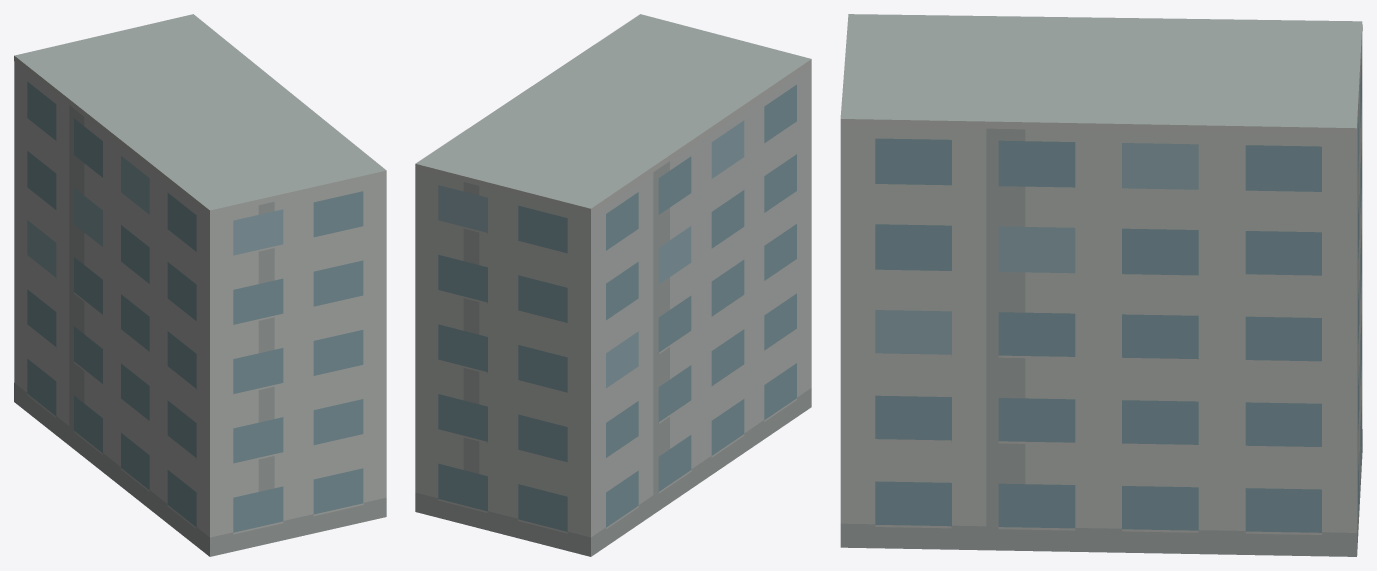
File: survey-upis-33010556.glb
3 renders of one model, left to right at view 1: azimuth 30°, elevation 25°; view 2: azimuth 150°, elevation 25°; view 3: azimuth 270°, elevation 25°, orthographic. The views are drawn at different scales.
Visible parts, largest first — view 1: survey-upis-33010556.tmp; view 2: survey-upis-33010556.tmp; view 3: survey-upis-33010556.tmp.
Boxes of the visible parts, x1,y1,x2,y2 form: survey-upis-33010556.tmp: [14, 14, 386, 556]; survey-upis-33010556.tmp: [415, 14, 811, 556]; survey-upis-33010556.tmp: [840, 14, 1362, 556].
Size of the model in its own units: 8.35 by 14.6 by 16.12.
